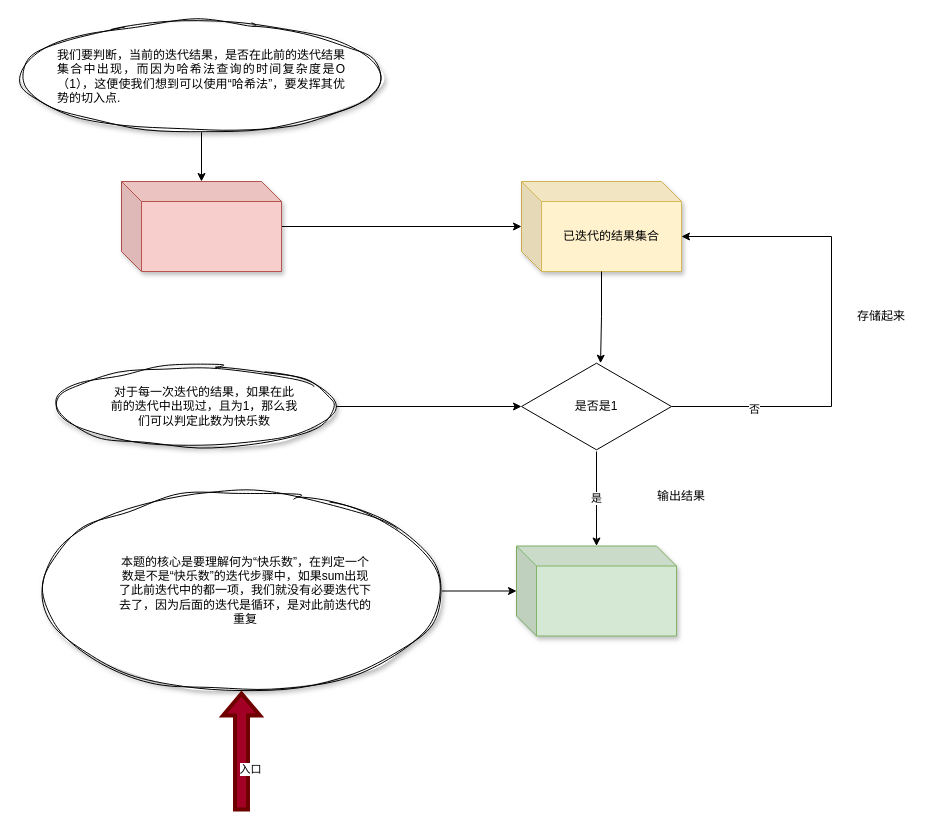
The diagram is 929 pixels wide and 829 high, and some of its shapes have lost their labels. Each missing label, with the centre of its shape:
当前步的迭代结果（sum）: pixel 202 227
快乐数: pixel 597 592
